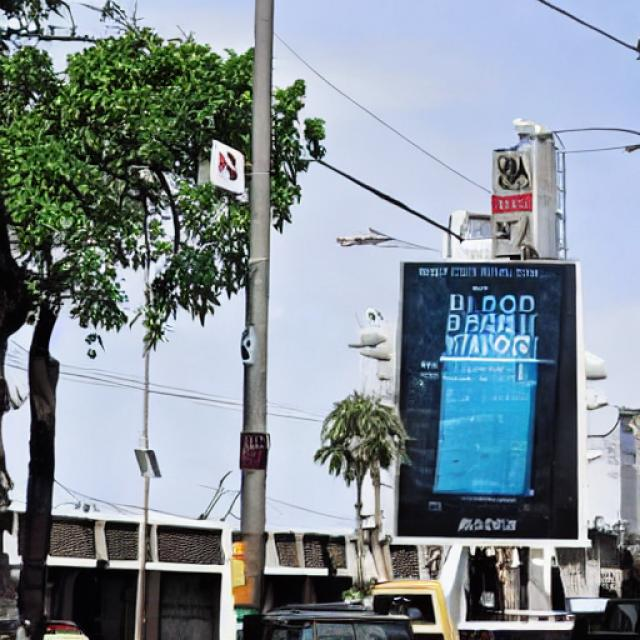Billboard: (394, 252, 586, 545)
